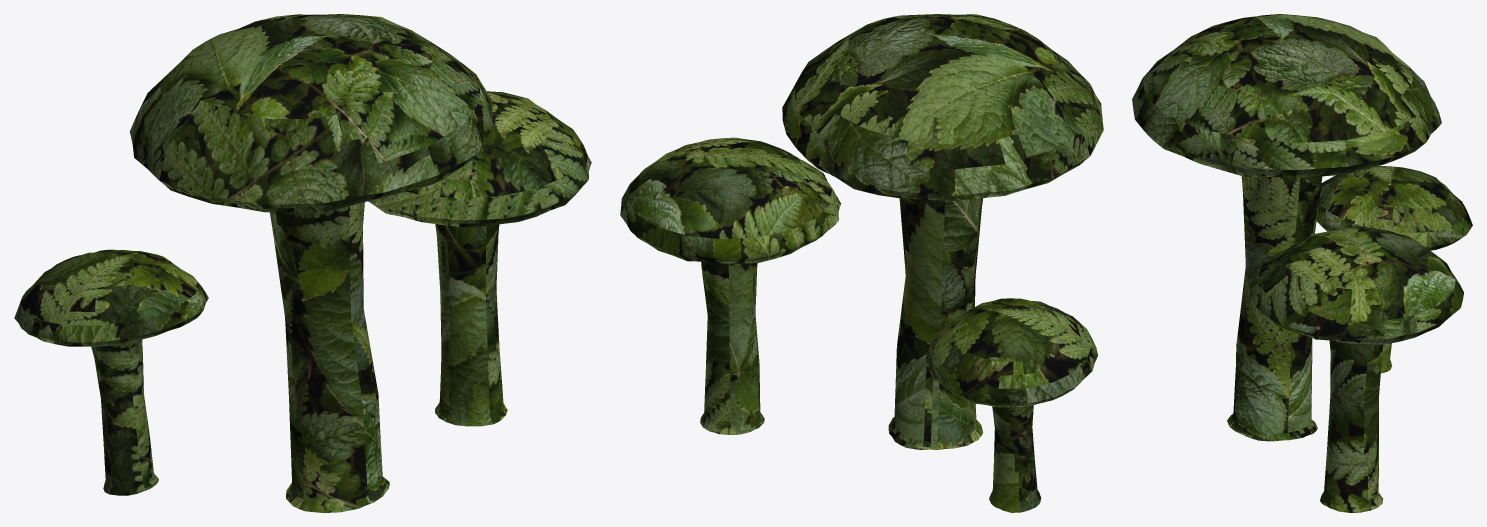
The model's file is giant-mushrooms-v01.glb.
The picture shows the model from 3 angles, left to right: view 1: azimuth 30°, elevation 25°; view 2: azimuth 150°, elevation 25°; view 3: azimuth 270°, elevation 25°; orthographic projection. The views are drawn at different scales.
Visible parts, largest first — view 1: giant-mushrooms; view 2: giant-mushrooms; view 3: giant-mushrooms.
Boxes of the visible parts, x1=… form: giant-mushrooms: x1=14, y1=14, x2=591, y2=512; giant-mushrooms: x1=620, y1=14, x2=1103, y2=512; giant-mushrooms: x1=1132, y1=14, x2=1472, y2=512.
Bounding box in the file's own units: 3.21 × 2.65 × 2.11.
Materials: 1 (1 with a texture image).
